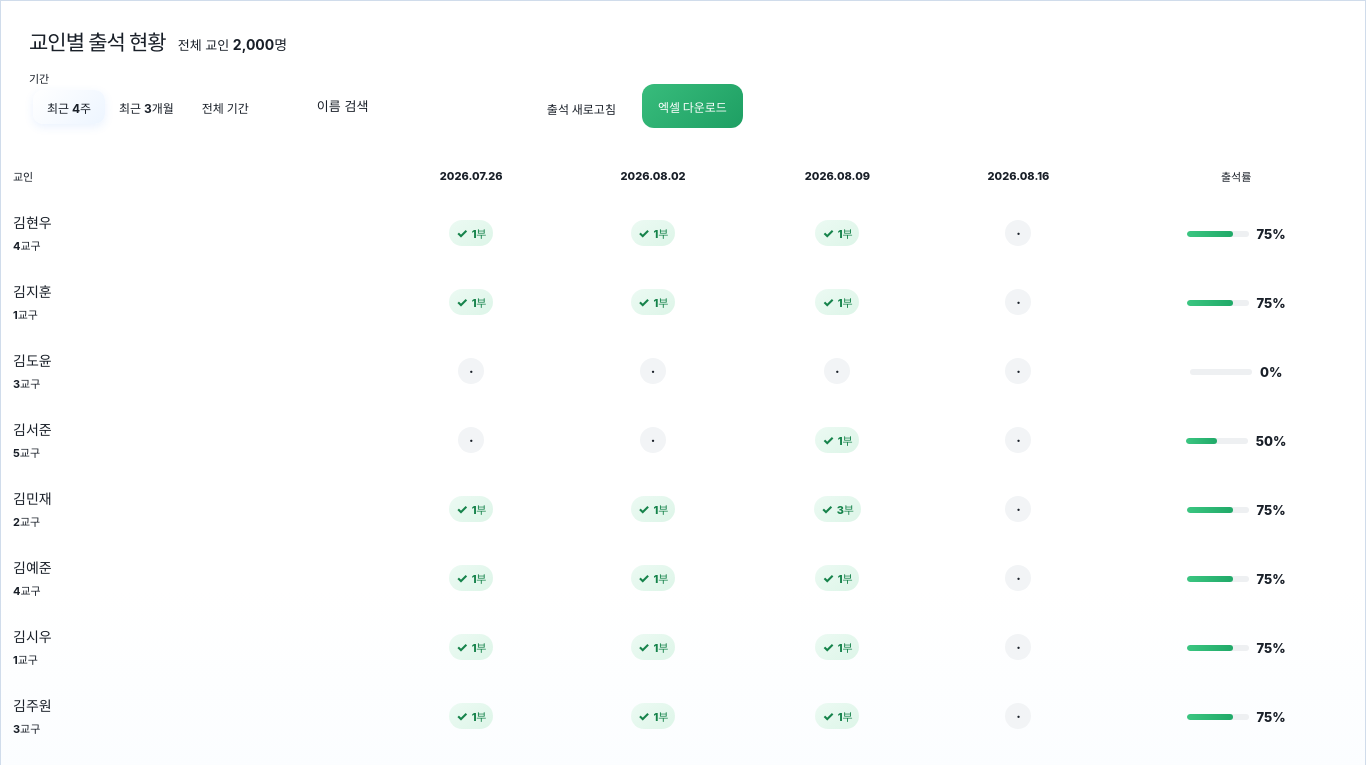
Test: AttendanceManagement › applies the last-3-months period to the attendance table
The width and height of the screenshot is (1366, 765).
Click the button "최근 3개월" at (146, 107), box [105,90,188,124]
(page scrolled)
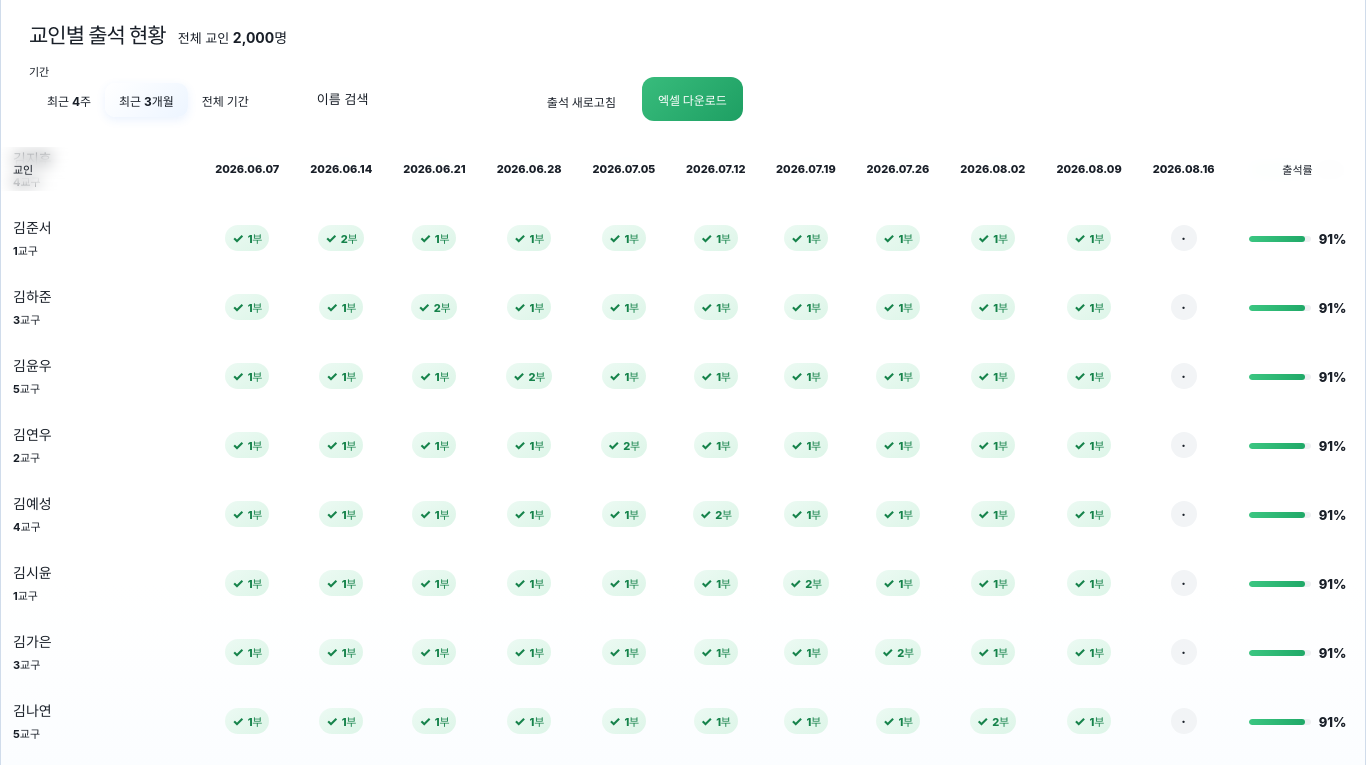
Expected: the table with class "attendance-table" shows "2026.06.07", [215,162,279,176]
